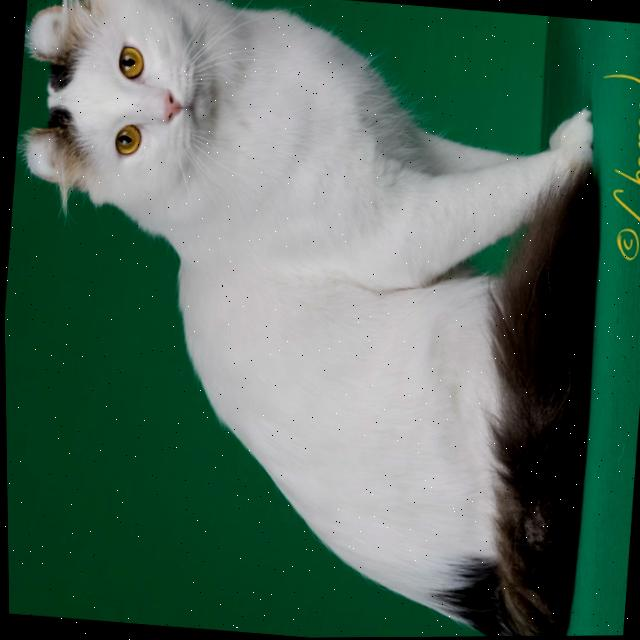American Curl: (0, 0, 628, 640)
